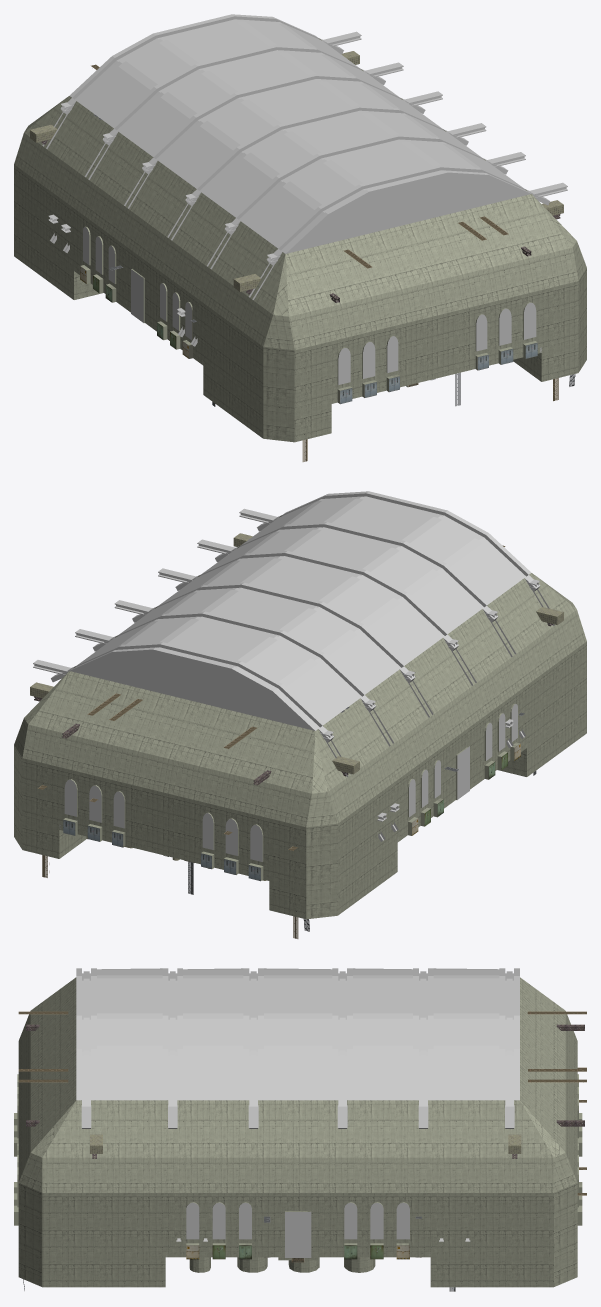
The model's file is stadium_00.fbx.
3 views of the same model, one above another, from view 1: azimuth 30°, elevation 25°; view 2: azimuth 150°, elevation 25°; view 3: azimuth 270°, elevation 25° (orthographic). The views are drawn at different scales.
Parts seen in each view (by area): view 1: Ceiling Curve, Cube, ROOF GLASS, Roof Ceiling, ROOF GLASS 2, Metal Beam, Cube.025, Pipes, Support Truss; view 2: Ceiling Curve, Cube, ROOF GLASS, Roof Ceiling, ROOF GLASS 2, Metal Beam, Pipes, Cube.025, Support Truss; view 3: Ceiling Curve, Cube, ROOF GLASS, Roof Ceiling, Cylinder.004, Pipes, Metal Beam, Truss.005, Cube.025.
Boxes of the visible parts, x1,y1,x2,y2 form: Ceiling Curve: (14, 38, 586, 350); Cube: (14, 164, 586, 442); ROOF GLASS: (84, 22, 516, 242); Roof Ceiling: (60, 14, 549, 265); ROOF GLASS 2: (289, 172, 527, 252); Metal Beam: (61, 31, 567, 262); Cube.025: (30, 51, 563, 291); Pipes: (91, 64, 575, 461); Support Truss: (42, 112, 274, 346); Ceiling Curve: (14, 515, 586, 827); Cube: (14, 641, 586, 919); ROOF GLASS: (84, 499, 517, 719); Roof Ceiling: (51, 491, 540, 742); ROOF GLASS 2: (73, 650, 311, 729); Metal Beam: (33, 508, 539, 739); Pipes: (38, 545, 536, 938); Cube.025: (30, 533, 563, 774); Support Truss: (326, 589, 554, 841); Ceiling Curve: (18, 977, 577, 1192); Cube: (14, 1074, 582, 1287); ROOF GLASS: (97, 969, 499, 1095); Roof Ceiling: (76, 968, 519, 1128); Cylinder.004: (189, 1257, 375, 1272); Pipes: (18, 1011, 586, 1291); Metal Beam: (81, 1105, 514, 1127); Truss.005: (26, 1024, 584, 1158); Cube.025: (90, 1134, 521, 1153).
Size of the model in its own units: 87.03 by 60.45 by 121.
